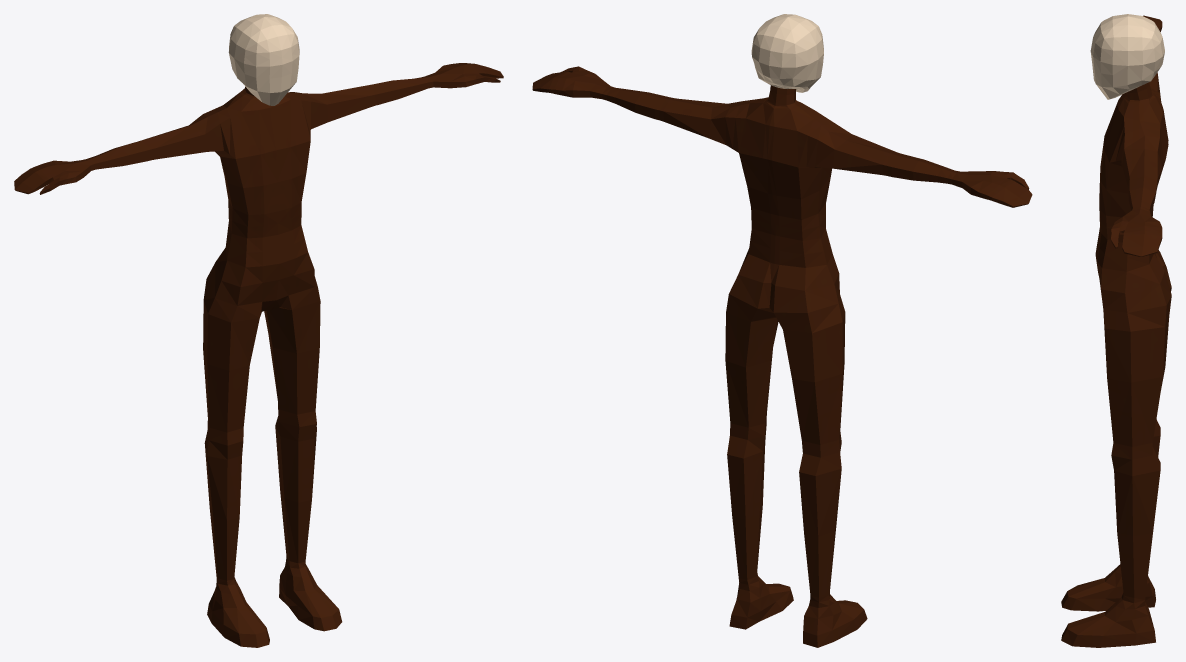
File: knight.FBX
3 renders of one model, left to right at view 1: azimuth 30°, elevation 25°; view 2: azimuth 150°, elevation 25°; view 3: azimuth 270°, elevation 25°, orthographic. The views are drawn at different scales.
Visible parts, largest first — view 1: Magician; view 2: Magician; view 3: Magician.
Boxes of the visible parts, box(x1,y1,x2,y2) form: Magician: box(14, 14, 503, 647); Magician: box(532, 14, 1032, 647); Magician: box(1061, 14, 1171, 647).
Bounding box in the file's own units: 140 × 164 × 27.25.
